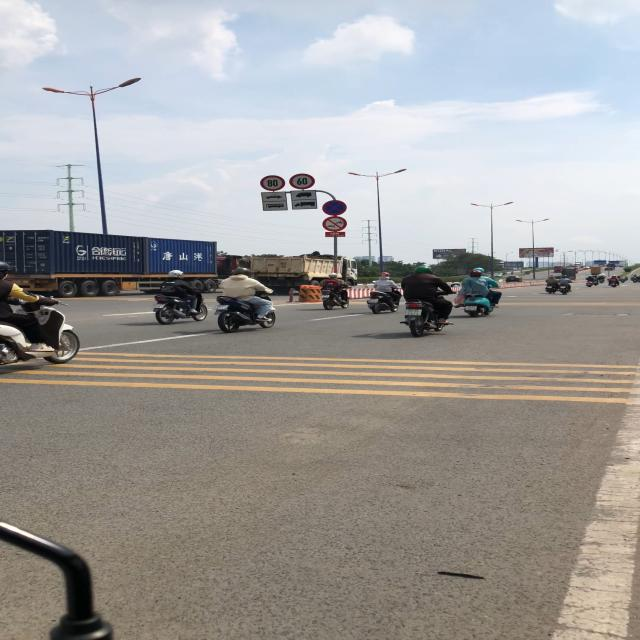Bien bao cam dung xe va do xe: (321, 200, 347, 216)
Bien bao toc do toi da cho phep: (288, 172, 317, 190), (259, 174, 285, 192)
